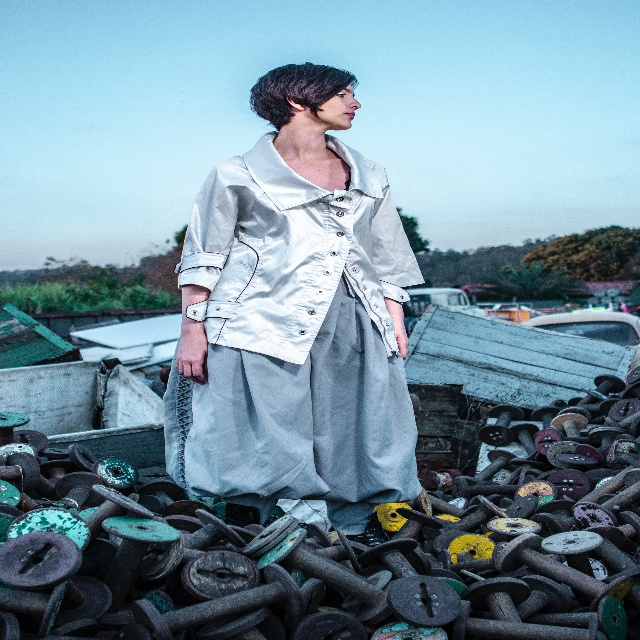Sin_guantes: (175, 325, 209, 386), (393, 321, 410, 360)
